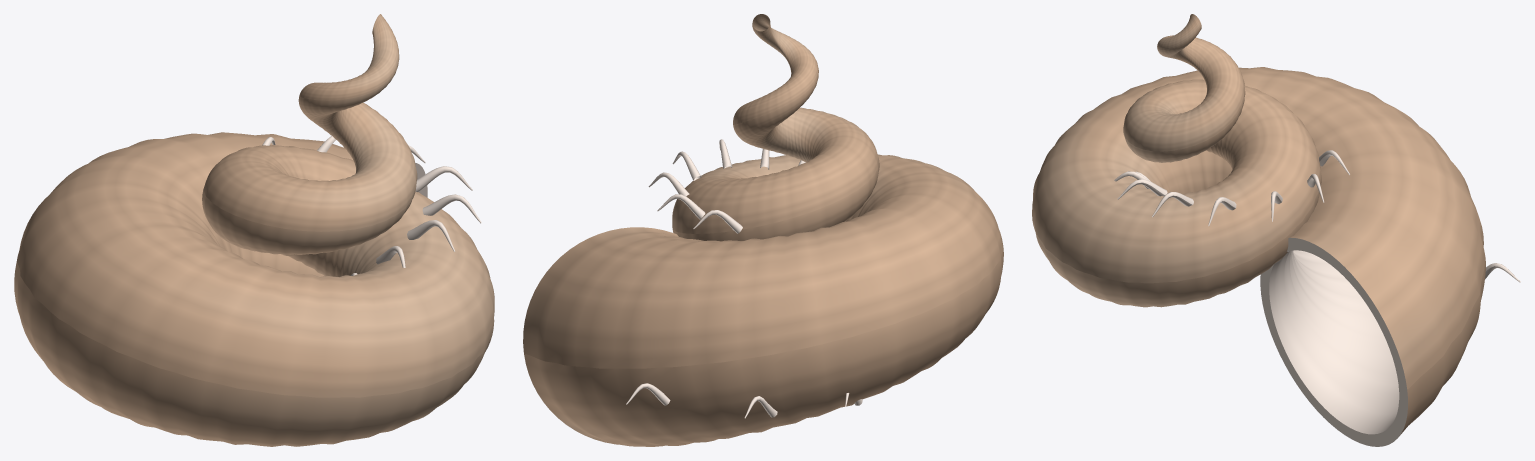
Rendered from murex.glb.
3 renders of one model, left to right at view 1: azimuth 30°, elevation 25°; view 2: azimuth 150°, elevation 25°; view 3: azimuth 270°, elevation 25°, orthographic. The views are drawn at different scales.
Visible parts, largest first — view 1: murex; view 2: murex; view 3: murex.
Part boxes in pixels (x1,y1,x2,y2): murex: (14,14,494,446); murex: (523,14,1003,446); murex: (1032,14,1520,446).
Bounding box in the file's own units: 1.54 × 1.53 × 1.69.
